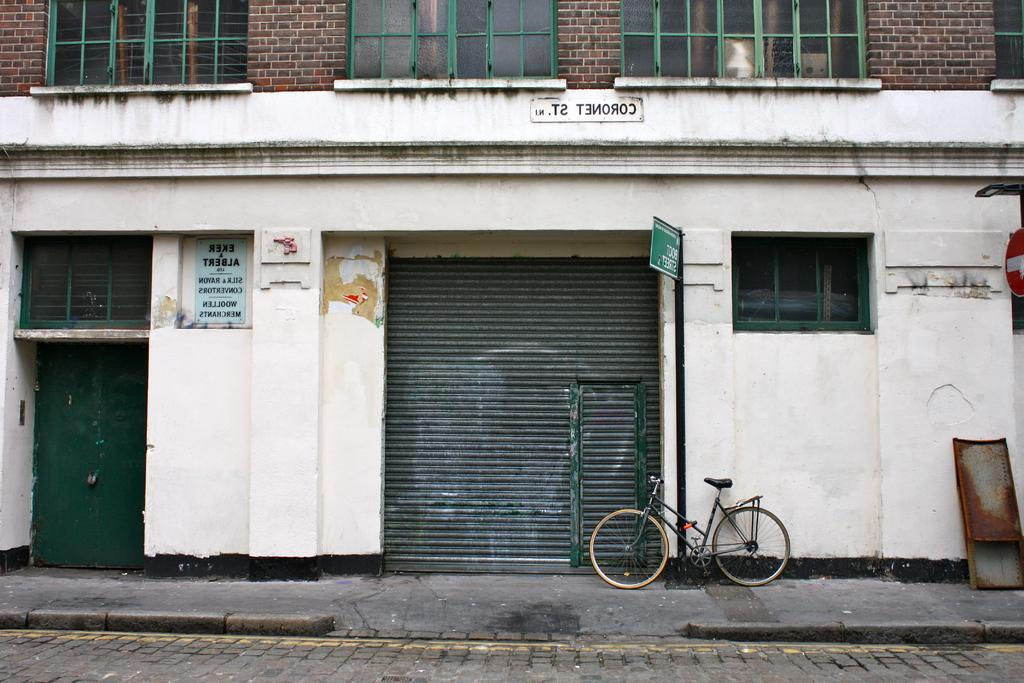door: (92, 344, 146, 566), (39, 351, 97, 553), (575, 386, 637, 559)
